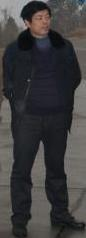boots: (11, 223, 26, 236)
